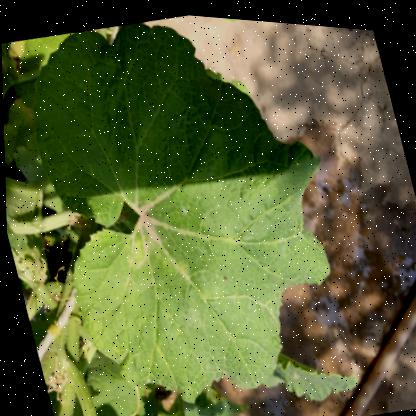Normal: (3, 0, 378, 415)
